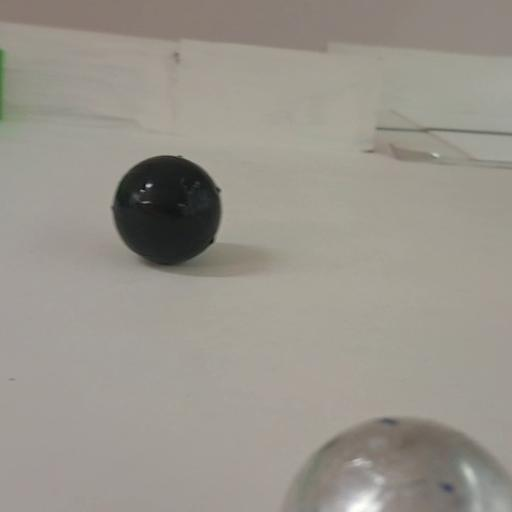alive: (276, 416, 512, 512)
dead: (109, 153, 226, 265)
